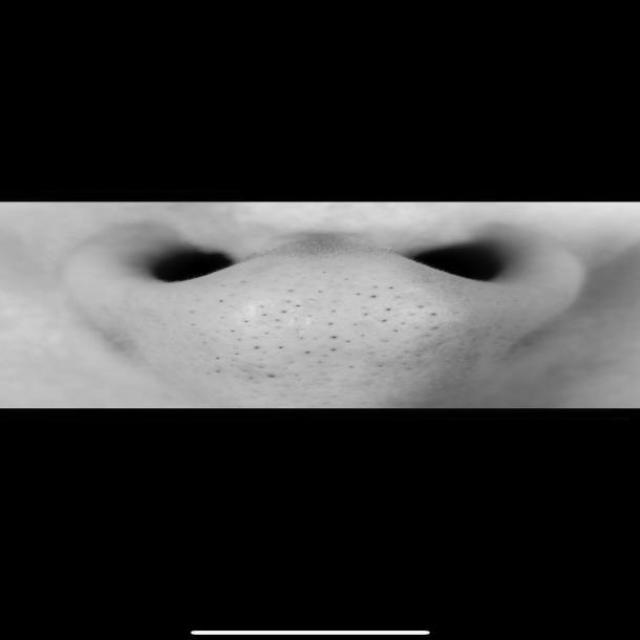blackhead: (193, 274, 459, 383)
